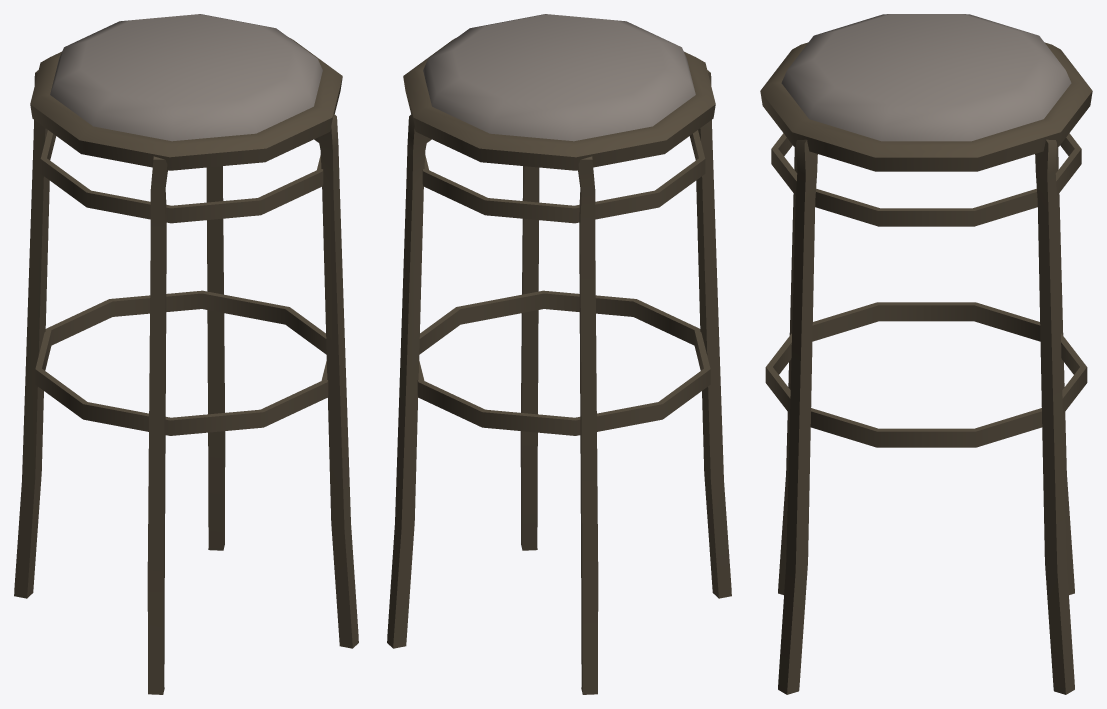
File: Stool.glb
3 views of the same model, side by side, from view 1: azimuth 30°, elevation 25°; view 2: azimuth 150°, elevation 25°; view 3: azimuth 270°, elevation 25° (orthographic). The views are drawn at different scales.
Visible parts, largest first — view 1: Stool; view 2: Stool; view 3: Stool.
Boxes of the visible parts, bbox=[...] form: Stool: bbox=[14, 14, 358, 694]; Stool: bbox=[387, 14, 731, 694]; Stool: bbox=[760, 14, 1092, 694].
Size of the model in its own units: 0.3302 by 0.6711 by 0.3472.
Materials: 2 (2 with a texture image).
